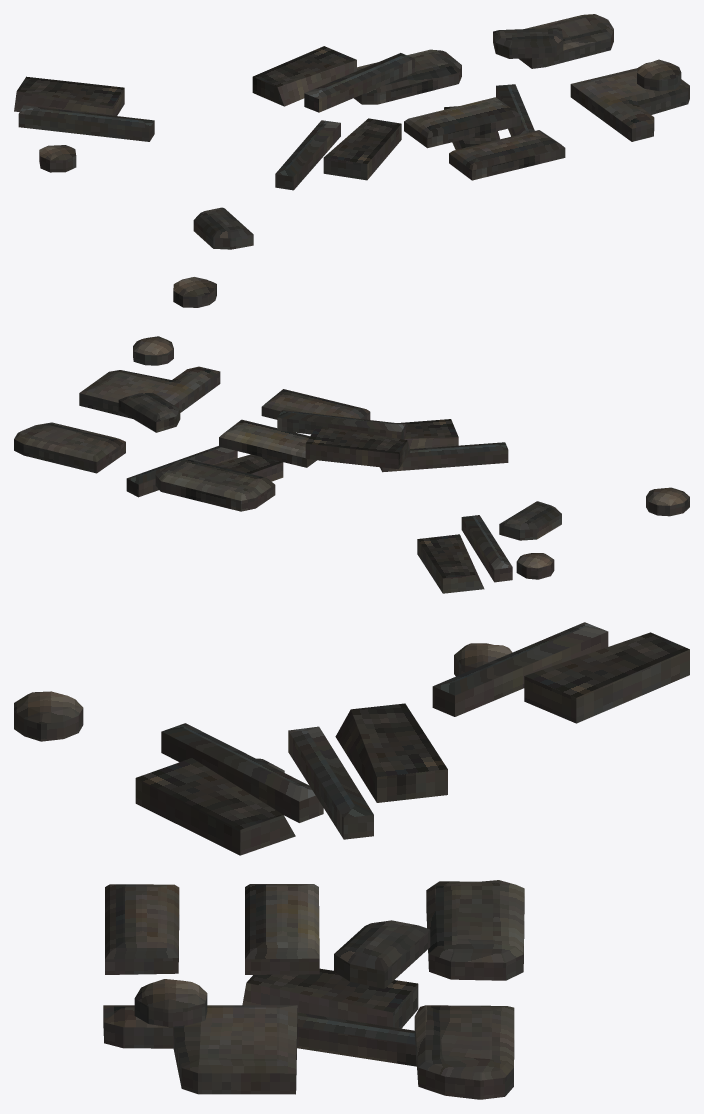
Rendered from metal_scrap.glb.
The picture shows the model from 3 angles, top to bottom: view 1: azimuth 30°, elevation 25°; view 2: azimuth 150°, elevation 25°; view 3: azimuth 270°, elevation 25°; orthographic projection. The views are drawn at different scales.
Parts seen in each view (by area): view 1: metal_scrap; view 2: metal_scrap; view 3: metal_scrap.
Boxes of the visible parts, x1,y1,x2,y2 form: metal_scrap: (14, 14, 689, 307); metal_scrap: (14, 336, 689, 593); metal_scrap: (14, 622, 689, 1099).
Bounding box in the file's own units: 0.3667 × 0.06 × 0.2378.
1 material, 1 textured.
